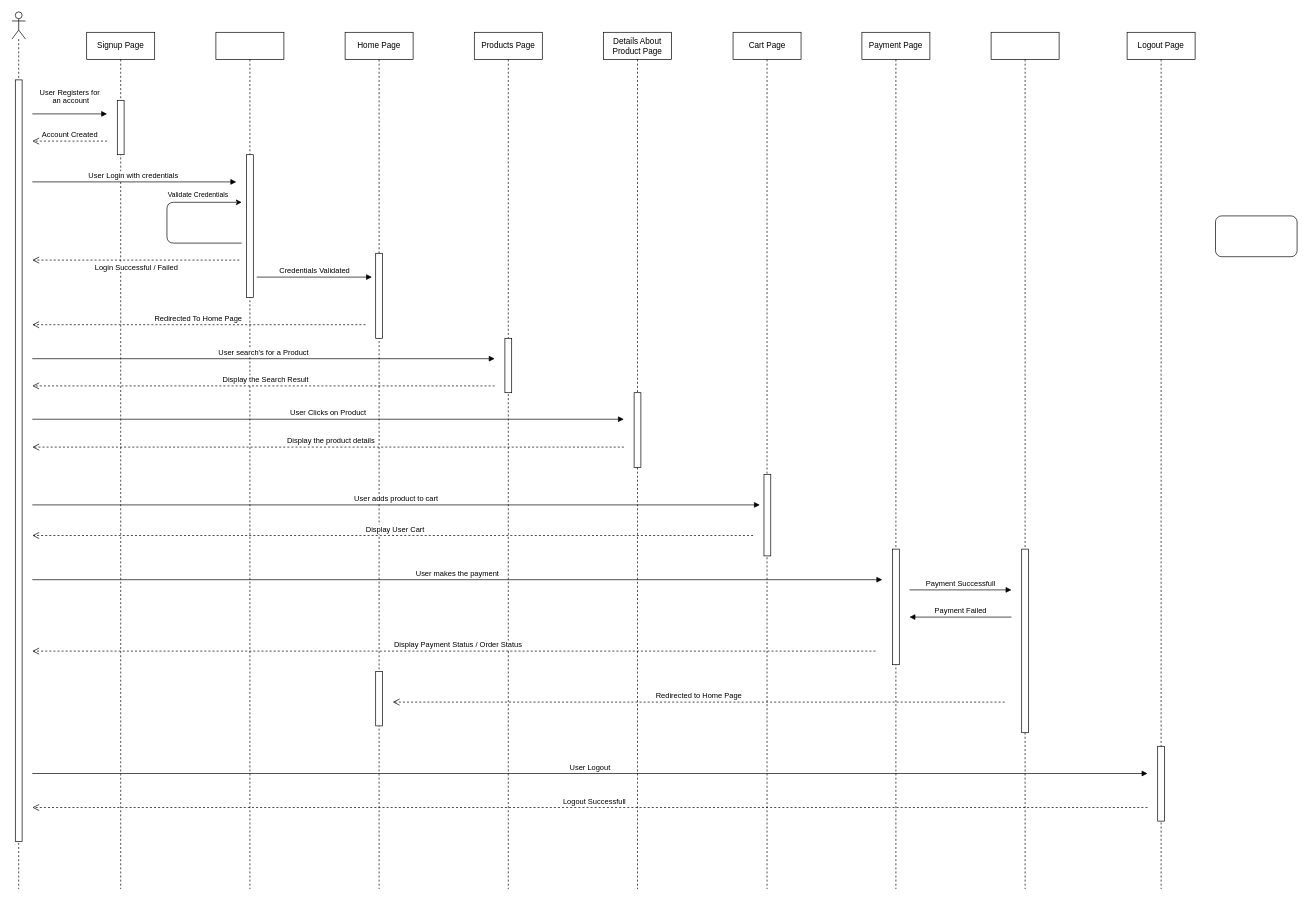
The diagram is 1309 pixels wide and 901 high, and some of its shapes have lost their labels. The box of each missing label's shape, as (x1, y1, x2, y2) in pixels:
K Srikanth 17ETCS002124: (1215, 215, 1297, 257)
Login Page: (215, 32, 284, 889)
Order Confirmed Page: (990, 32, 1059, 889)
